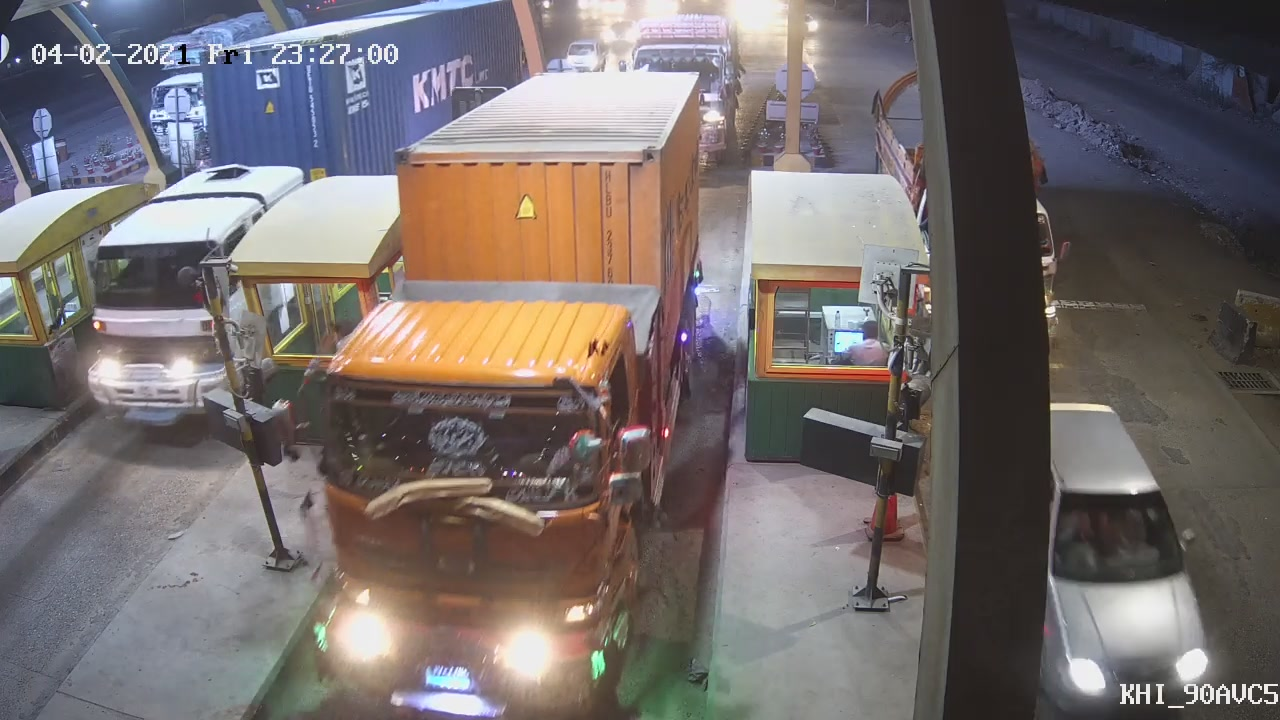F6: (290, 64, 717, 717)
